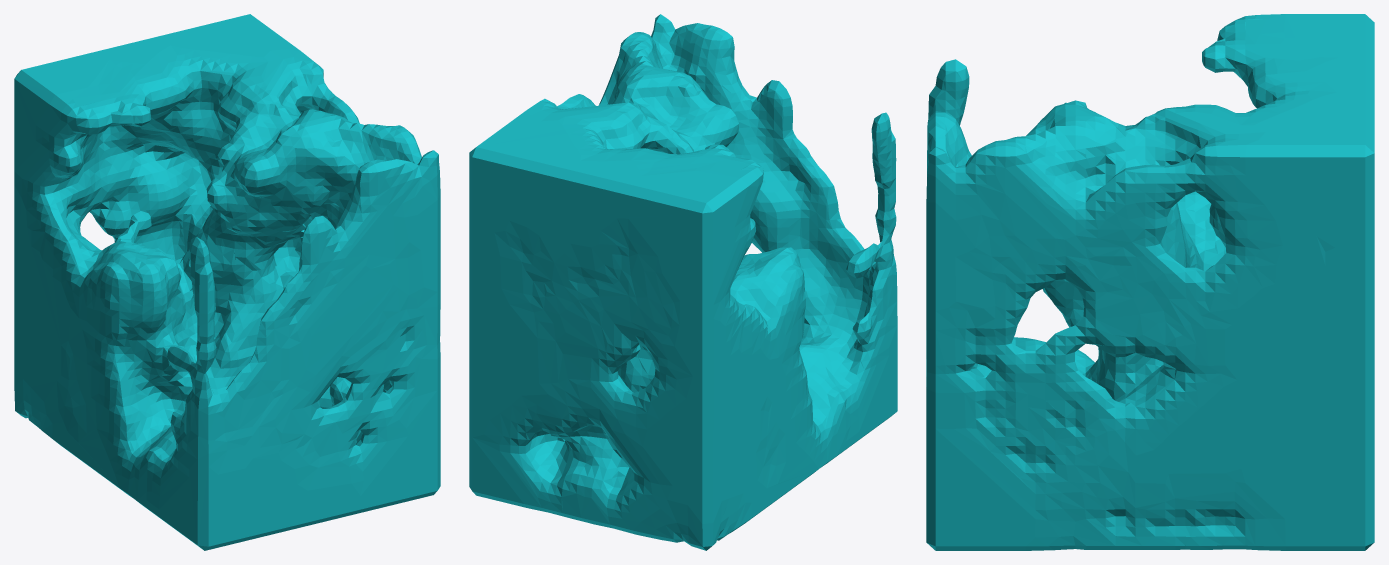
3 renders of one model, left to right at view 1: azimuth 30°, elevation 25°; view 2: azimuth 150°, elevation 25°; view 3: azimuth 270°, elevation 25°, orthographic. The views are drawn at different scales.
Visible parts, largest first — view 1: Liquid_Domain; view 2: Liquid_Domain; view 3: Liquid_Domain.
Boxes of the visible parts, x1,y1,x2,y2 form: Liquid_Domain: (14, 14, 440, 550); Liquid_Domain: (469, 14, 897, 550); Liquid_Domain: (926, 14, 1374, 550).
Bounding box in the file's own units: 79.12 × 108 × 108.
